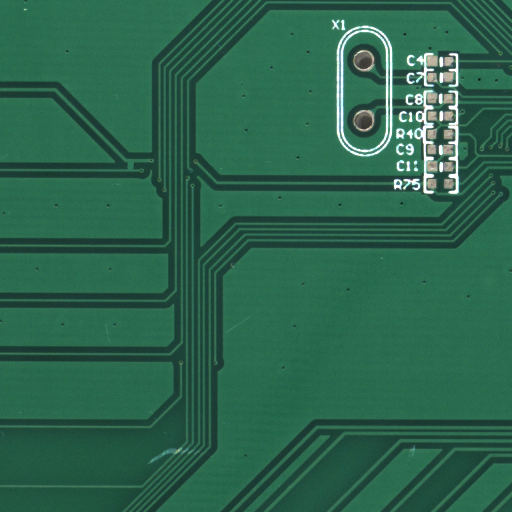Short: (130, 165, 141, 177)
